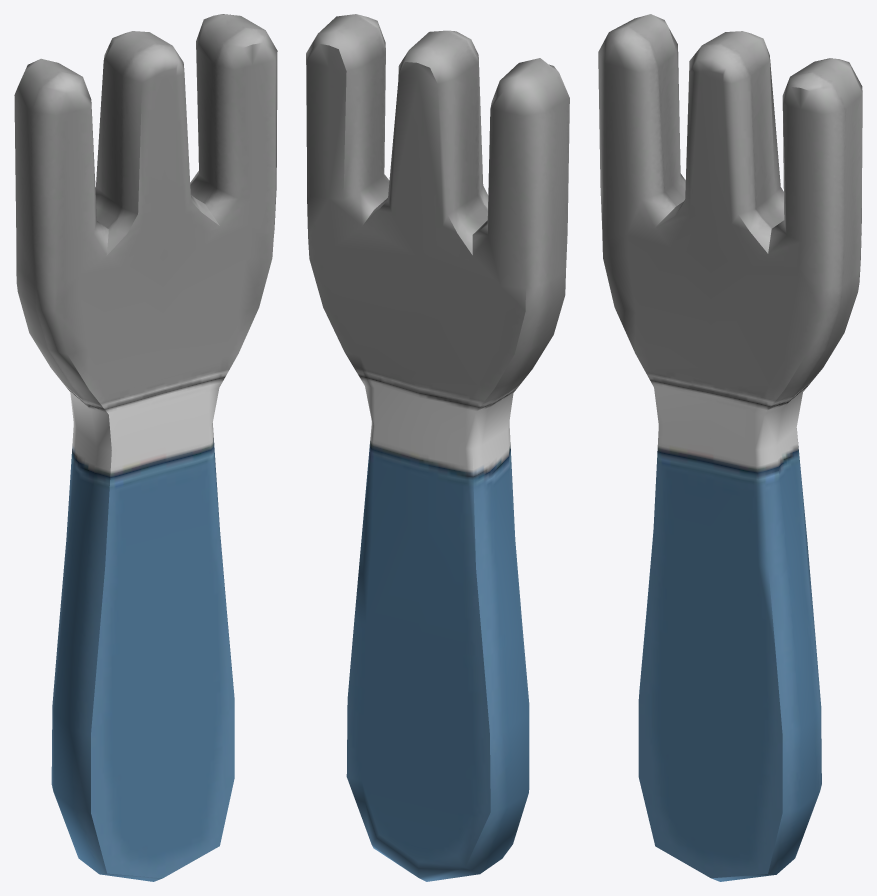
File: 0-fork_blue.fbx
The picture shows the model from 3 angles, left to right: view 1: azimuth 30°, elevation 25°; view 2: azimuth 150°, elevation 25°; view 3: azimuth 330°, elevation 25°; orthographic projection.
Visible parts, largest first — view 1: 0-fork_blue; view 2: 0-fork_blue; view 3: 0-fork_blue.
Part boxes in pixels (x1=…): 0-fork_blue: x1=14, y1=14, x2=277, y2=881; 0-fork_blue: x1=306, y1=14, x2=569, y2=881; 0-fork_blue: x1=598, y1=14, x2=862, y2=881.
Bounding box in the file's own units: 33.68 × 110 × 9.69.
